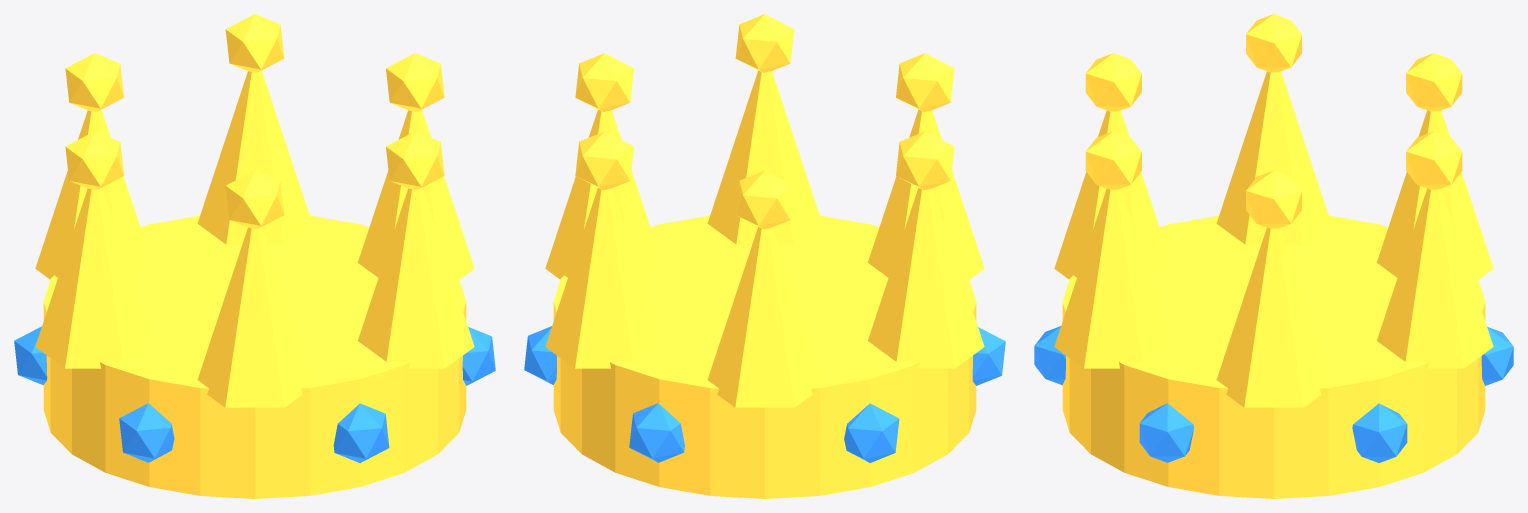
Rendered from acc_crown.glb.
3 renders of one model, left to right at view 1: azimuth 30°, elevation 25°; view 2: azimuth 150°, elevation 25°; view 3: azimuth 270°, elevation 25°, orthographic.
Parts seen in each view (by area): view 1: AccCrown; view 2: AccCrown; view 3: AccCrown.
Boxes of the visible parts, x1,y1,x2,y2 form: AccCrown: [14, 14, 495, 498]; AccCrown: [524, 14, 1005, 498]; AccCrown: [1034, 14, 1513, 498].
Size of the model in its own units: 0.7159 by 0.53 by 0.7251.
